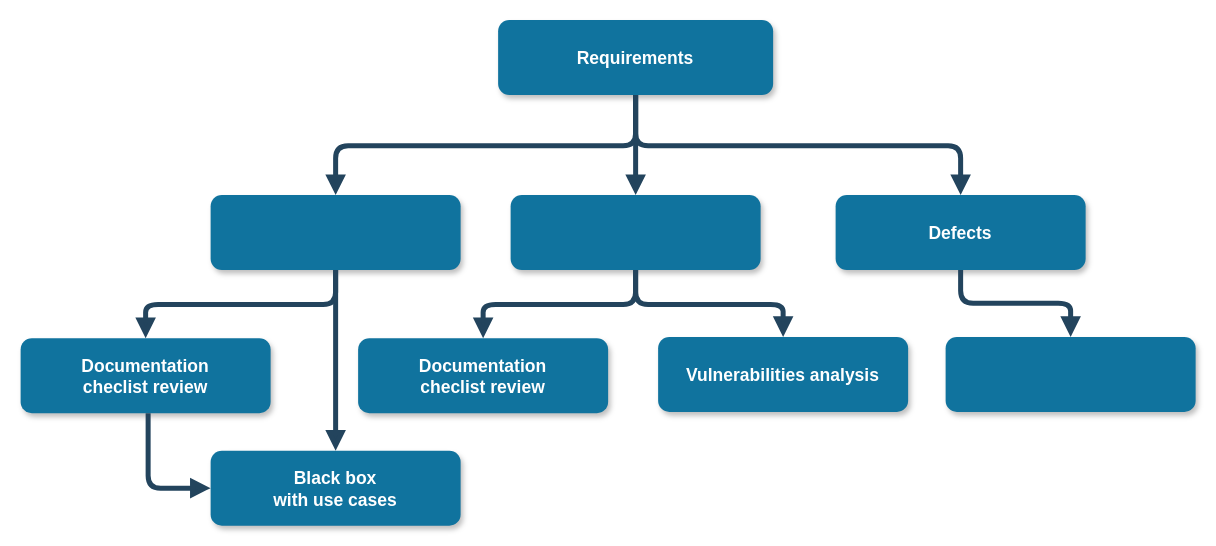
Some shapes in this 1216 by 546 pixel diagram are drawn without their labels. The centre of each missing label's shape, as x and y in pixels:
Issue tracking analysis: point 1071,375
Lifecycle: point 336,233
Security: point 636,233
